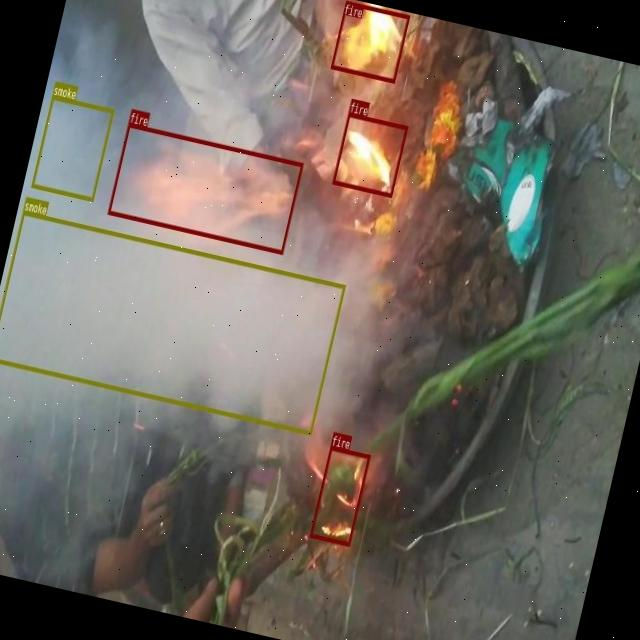fire: (106, 122, 304, 254), (331, 111, 407, 197), (330, 0, 409, 82), (309, 444, 370, 546)
smoke: (0, 209, 344, 434), (30, 95, 114, 201)
